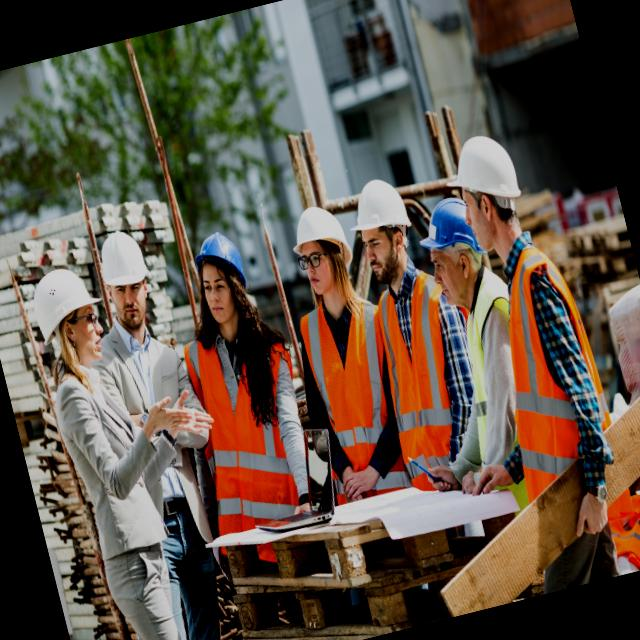goggles: (290, 238, 343, 278)
helmet: (446, 125, 536, 228), (416, 202, 495, 280), (282, 192, 354, 277), (181, 220, 253, 304), (20, 262, 100, 334), (84, 222, 153, 298), (342, 174, 414, 241)
no-goggles: (192, 266, 242, 306), (429, 252, 464, 284), (109, 276, 151, 301), (362, 228, 396, 258)
no-vest: (100, 314, 230, 550), (46, 359, 168, 591)
vest: (478, 244, 628, 527), (174, 310, 317, 540), (290, 278, 419, 498), (359, 273, 481, 484)
